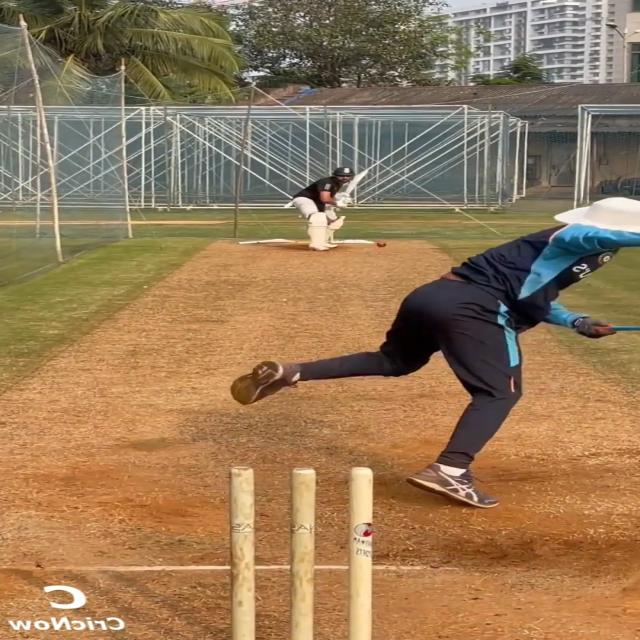ball: (376, 241, 387, 248)
stump: (222, 464, 379, 640)
